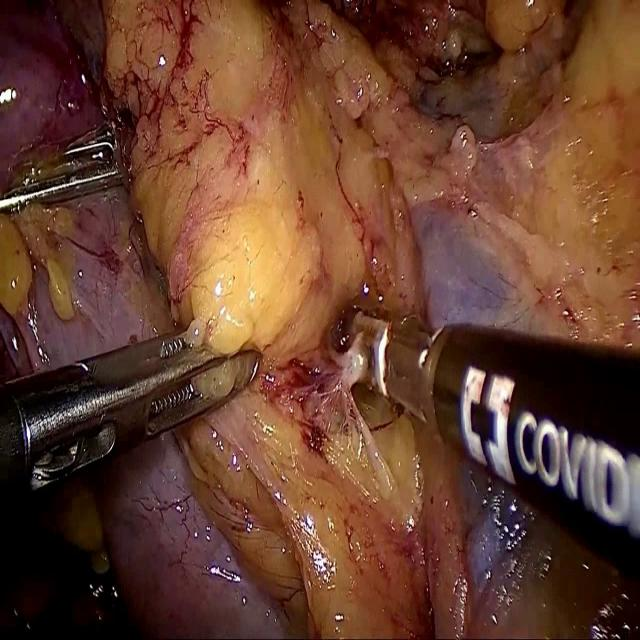surgical-tool: (344, 308, 640, 588), (0, 325, 260, 512), (0, 116, 132, 212)
